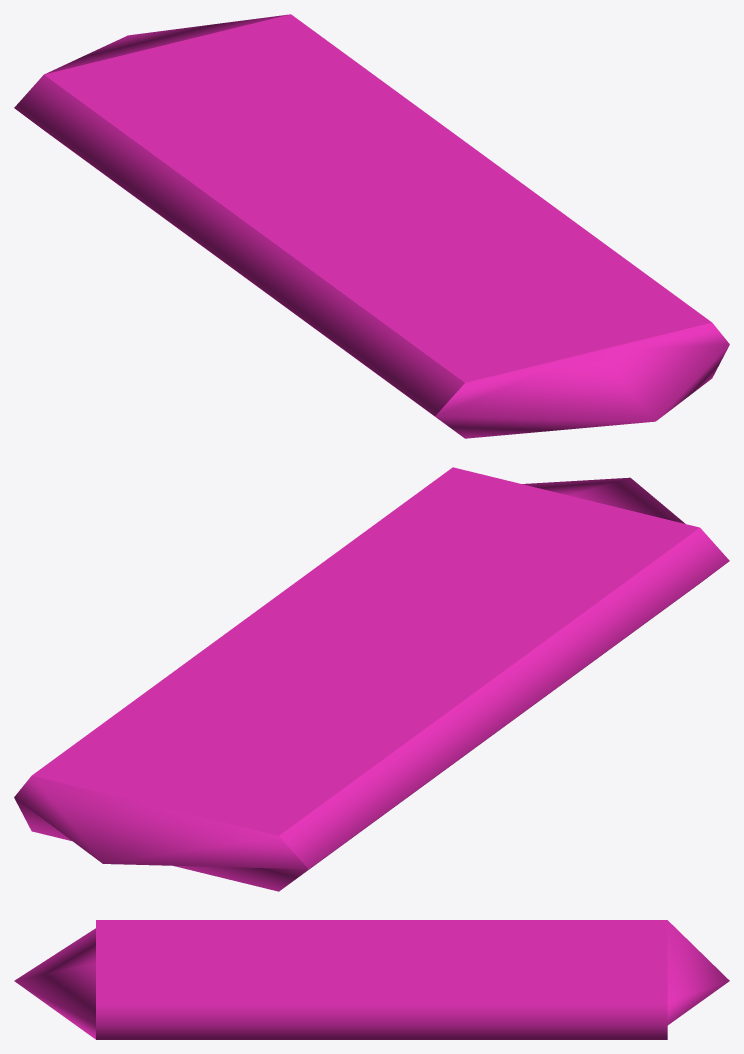
The model's file is tank bullet.fbx.
3 renders of one model, top to bottom at view 1: azimuth 30°, elevation 25°; view 2: azimuth 150°, elevation 25°; view 3: azimuth 270°, elevation 25°, orthographic. The views are drawn at different scales.
Visible parts, largest first — view 1: pCube3; view 2: pCube3; view 3: pCube3.
Boxes of the visible parts, x1,y1,x2,y2 form: pCube3: (14,14,729,438); pCube3: (14,467,729,891); pCube3: (14,920,729,1039).
Bounding box in the file's own units: 0.2835 × 0.0513 × 0.8789.
